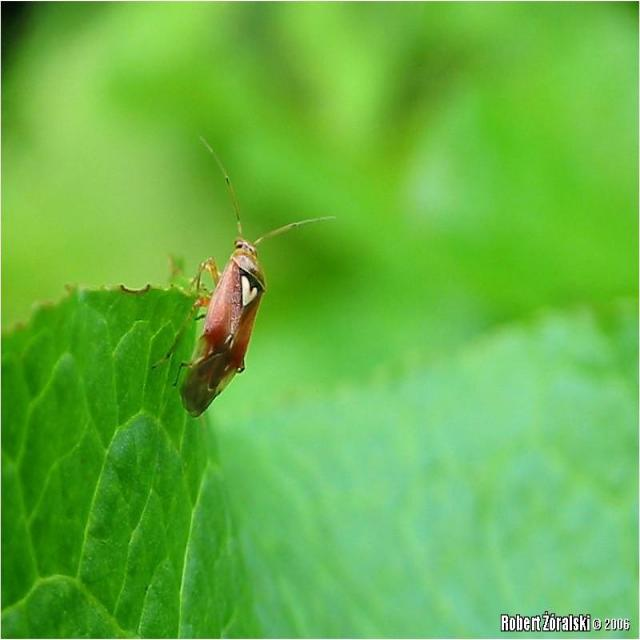Miridae-Adult-: (167, 123, 346, 422)
